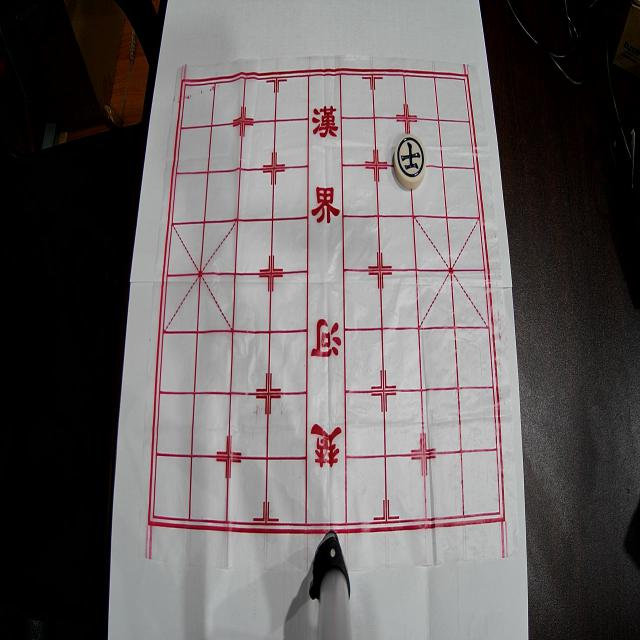black-guard: (394, 134, 426, 188)
